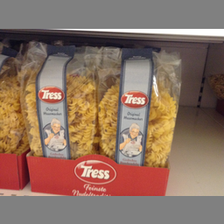pasta: (97, 45, 182, 167), (19, 42, 97, 158)
